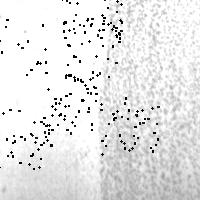pitted_surface: (95, 1, 200, 199), (63, 19, 121, 79), (43, 72, 100, 132), (101, 97, 157, 153), (0, 109, 51, 168), (61, 0, 120, 45), (0, 19, 45, 75)
